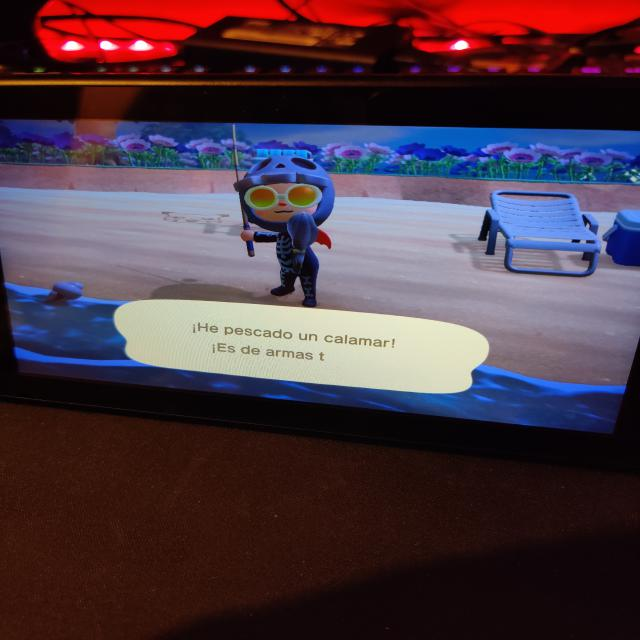text_bubble: (111, 298, 493, 396)
